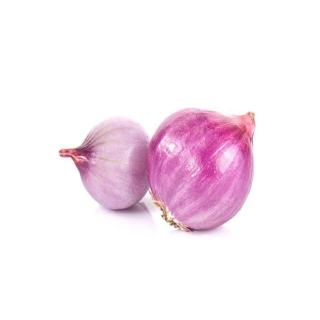Bawang Merah: (146, 103, 261, 236), (57, 113, 155, 216)
